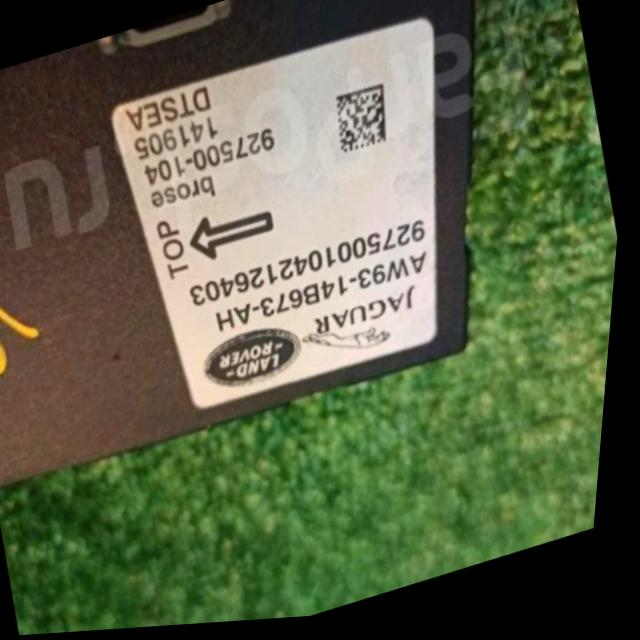datamatrix: (330, 86, 399, 161)
